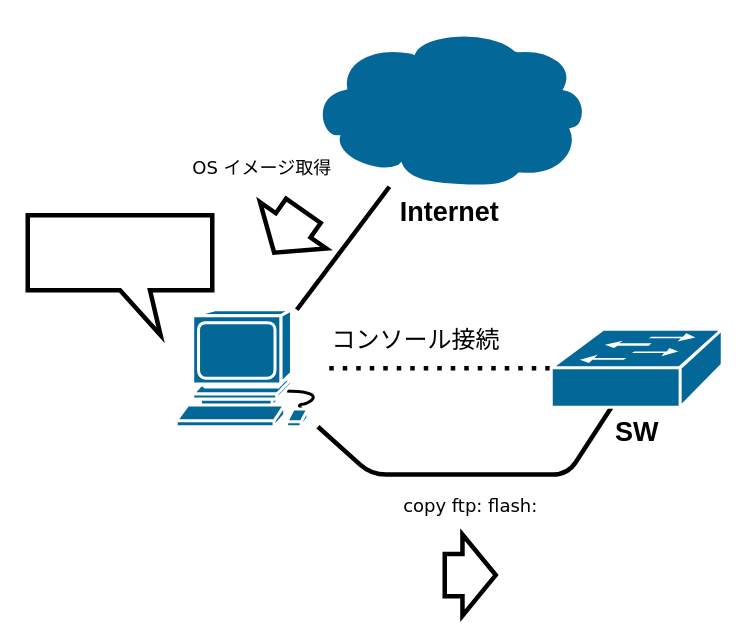
Some shapes in this 750 by 644 pixel diagram are drawn without their labels. Here are the shapes that lost their labels. From the top down, the centre of each, then its label:
At (x=119, y=274): "ファイルサーバ として動かす".
At (x=252, y=368): "PC".
